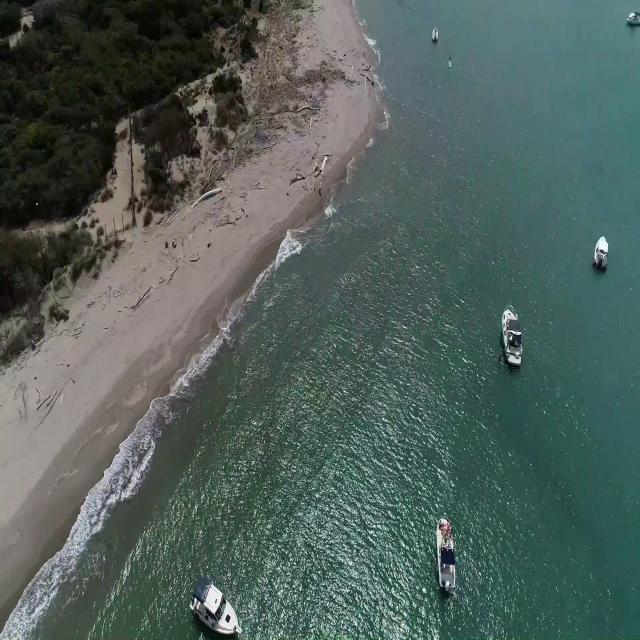boat: (193, 580, 243, 640), (434, 515, 457, 594), (501, 304, 524, 367), (594, 236, 610, 271), (625, 9, 640, 27), (431, 25, 440, 42)
person: (448, 51, 453, 63)
surfboard: (446, 60, 454, 73)
wood: (288, 156, 330, 201)
